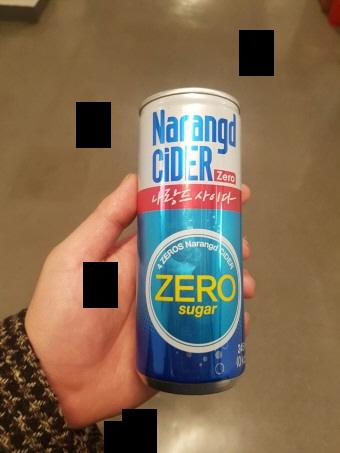narangdcider: (138, 83, 248, 396)
